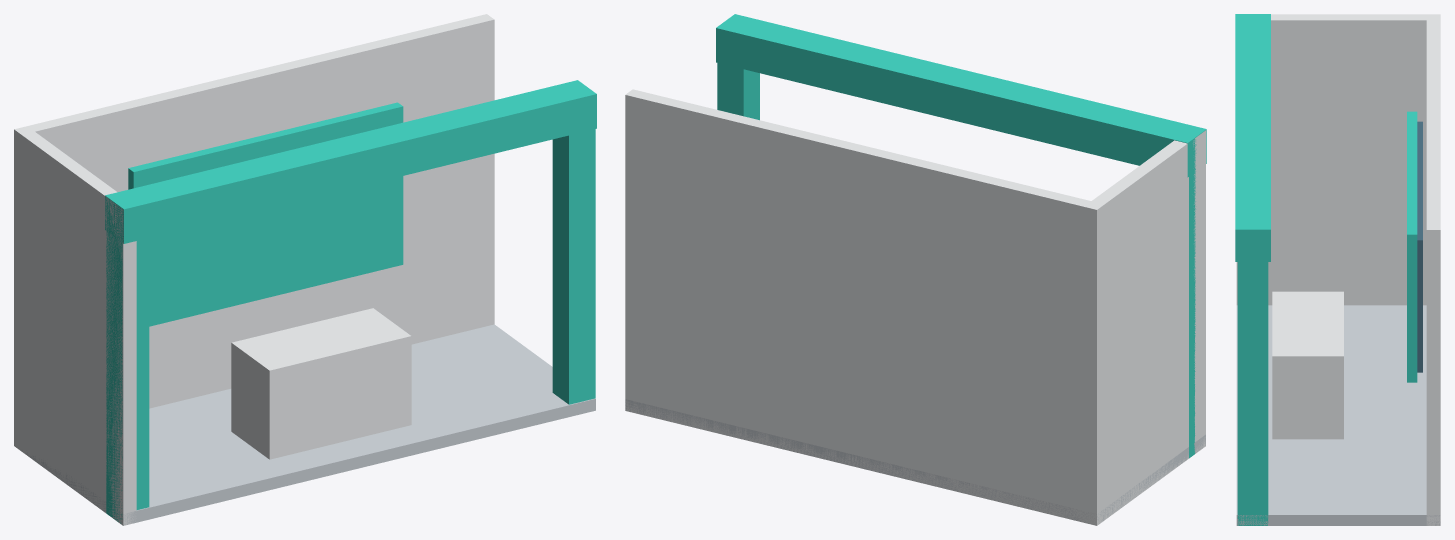
The picture shows the model from 3 angles, left to right: view 1: azimuth 30°, elevation 25°; view 2: azimuth 150°, elevation 25°; view 3: azimuth 270°, elevation 25°; orthographic projection. The views are drawn at different scales.
Visible parts, largest first — view 1: Exhibition Booth Concept; view 2: Exhibition Booth Concept; view 3: Exhibition Booth Concept.
Part boxes in pixels (x1,y1,x2,y2): Exhibition Booth Concept: [14, 14, 596, 525]; Exhibition Booth Concept: [625, 14, 1206, 525]; Exhibition Booth Concept: [1235, 14, 1440, 525].
Bounding box in the file's own units: 5 × 3.2 × 2.01.
